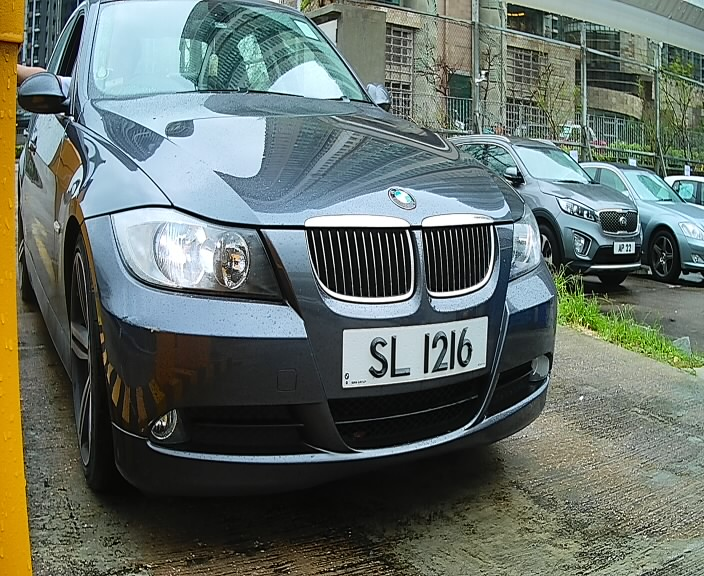Car: (45, 4, 582, 520)
License Plate: (334, 313, 501, 395)
